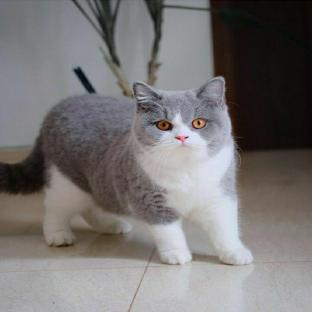Animal: (0, 76, 252, 265)
